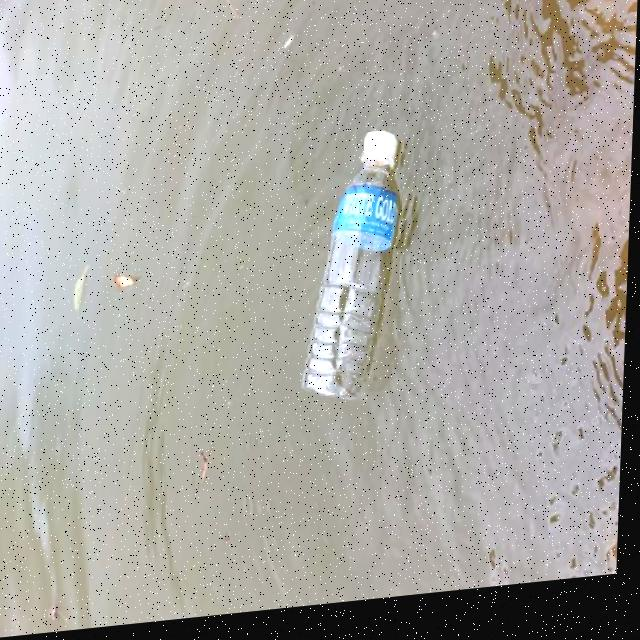leaf: (66, 250, 191, 333), (178, 439, 233, 507)
waterbottle: (295, 107, 477, 419)
